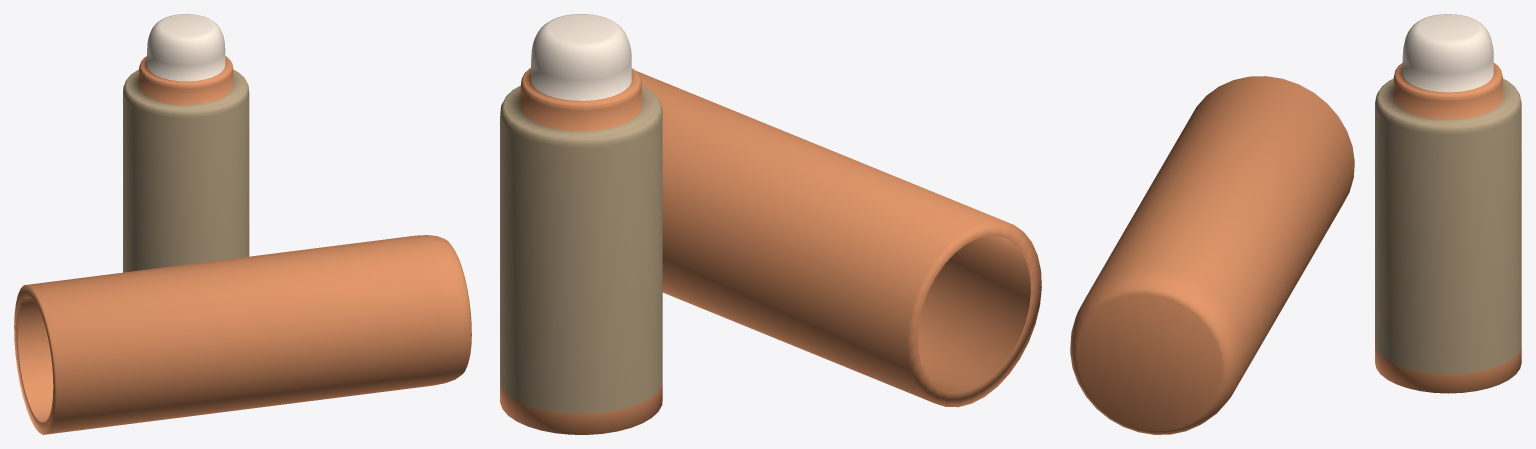
File: lipbalm.fbx
3 renders of one model, left to right at view 1: azimuth 30°, elevation 25°; view 2: azimuth 150°, elevation 25°; view 3: azimuth 270°, elevation 25°, orthographic. The views are drawn at different scales.
Visible parts, largest first — view 1: korkki, huulirasva; view 2: korkki, huulirasva; view 3: korkki, huulirasva.
Boxes of the visible parts, left/top/right/bottom form: korkki: left=14, top=235, right=471, bottom=434; huulirasva: left=123, top=14, right=249, bottom=272; korkki: left=636, top=71, right=1041, bottom=407; huulirasva: left=500, top=14, right=662, bottom=434; korkki: left=1070, top=76, right=1354, bottom=434; huulirasva: left=1375, top=14, right=1521, bottom=393.
Size of the model in its own units: 722 by 508 by 615.
